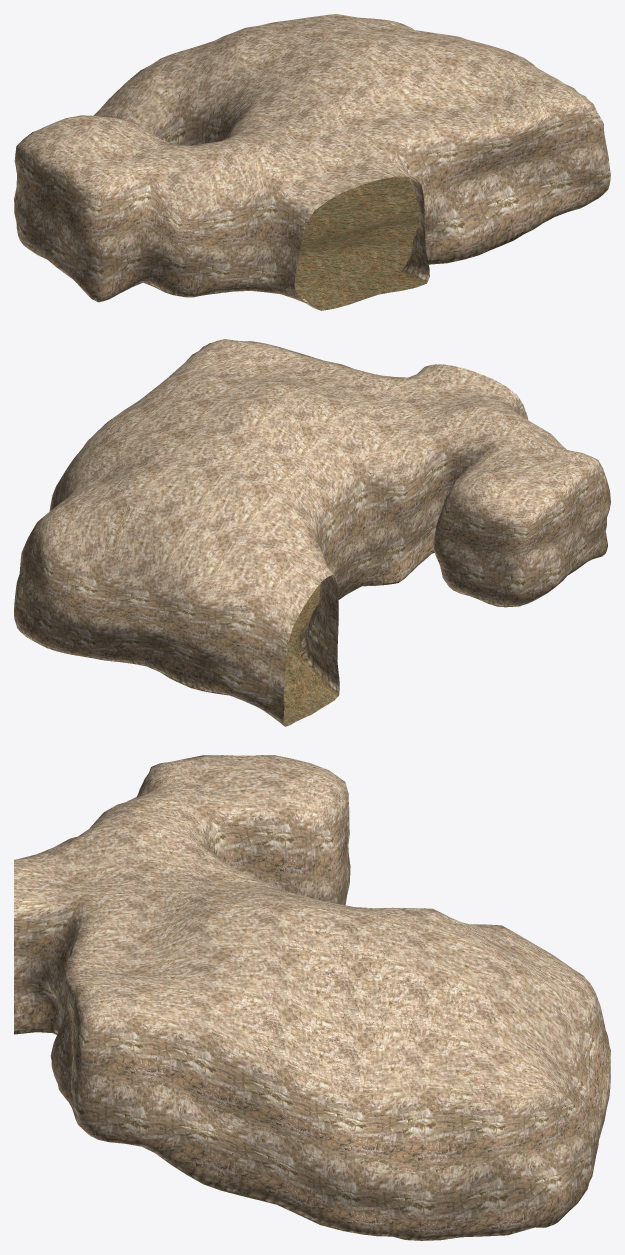
The model's file is thm_all_cave_flatland_s01_r5_mesh_r5.fbx.
3 renders of one model, top to bottom at view 1: azimuth 30°, elevation 25°; view 2: azimuth 150°, elevation 25°; view 3: azimuth 270°, elevation 25°, orthographic. The views are drawn at different scales.
Parts seen in each view (by area): view 1: mesh_node; view 2: mesh_node; view 3: mesh_node.
Boxes of the visible parts, x1,y1,x2,y2 form: mesh_node: (14, 14, 610, 310); mesh_node: (14, 339, 610, 726); mesh_node: (14, 755, 610, 1240).
Bounding box in the file's own units: 98.88 × 42.82 × 84.01.
